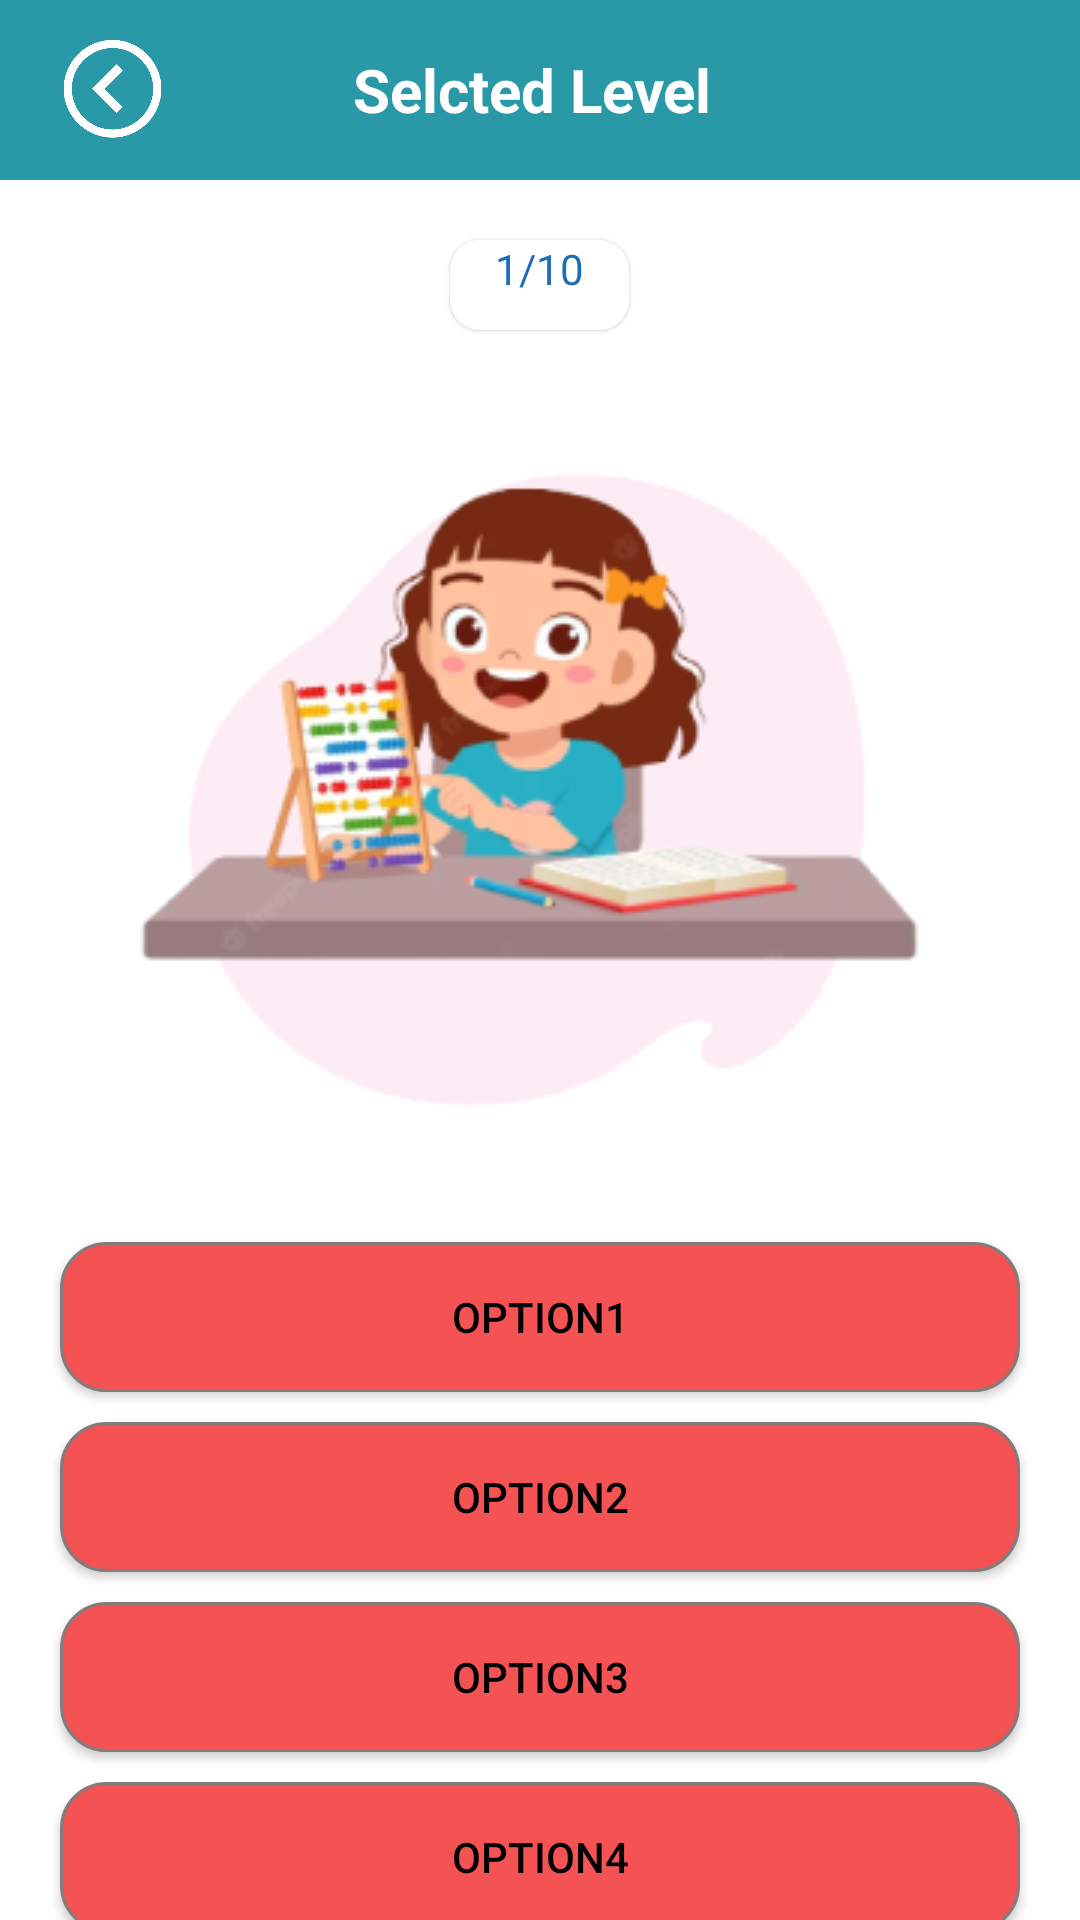

Icon bounding boxes for this 1080 × 1920 phone screenshot, format box(x1, y1, x2, y2):
back: box(64, 40, 162, 138)
